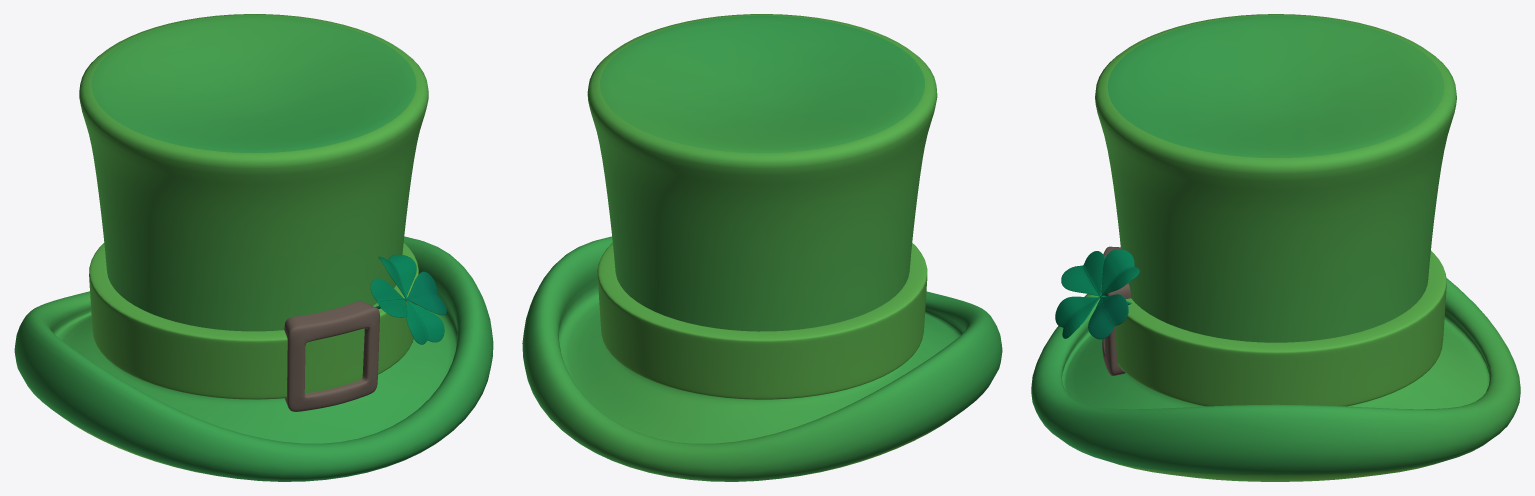
File: 4hat.fbx
3 views of the same model, side by side, from view 1: azimuth 30°, elevation 25°; view 2: azimuth 150°, elevation 25°; view 3: azimuth 270°, elevation 25° (orthographic). The views are drawn at different scales.
Visible parts, largest first — view 1: St. patric; view 2: St. patric; view 3: St. patric.
Boxes of the visible parts, left/top/right/bottom form: St. patric: left=14, top=14, right=493, bottom=481; St. patric: left=522, top=14, right=1002, bottom=481; St. patric: left=1031, top=14, right=1520, bottom=481.
Size of the model in its own units: 129 by 92.1 by 127.
Materials: 1 (1 with a texture image).
